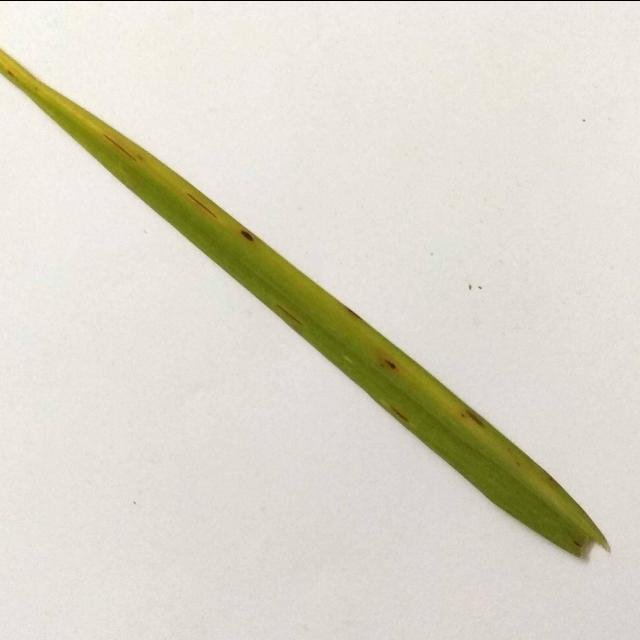Brown spot: (0, 0, 632, 569)
